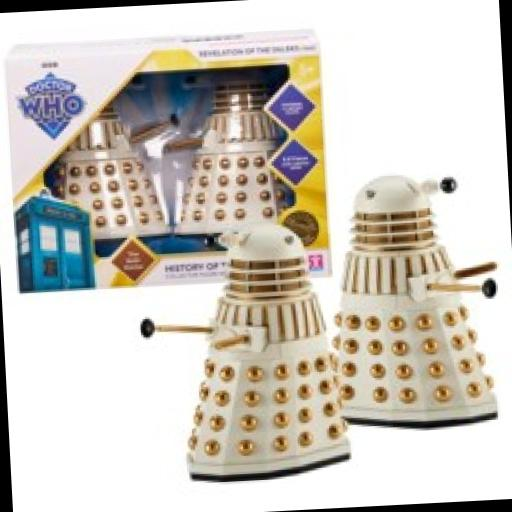dalek: (123, 224, 354, 488), (319, 168, 512, 433), (148, 64, 288, 232), (50, 97, 188, 234)
